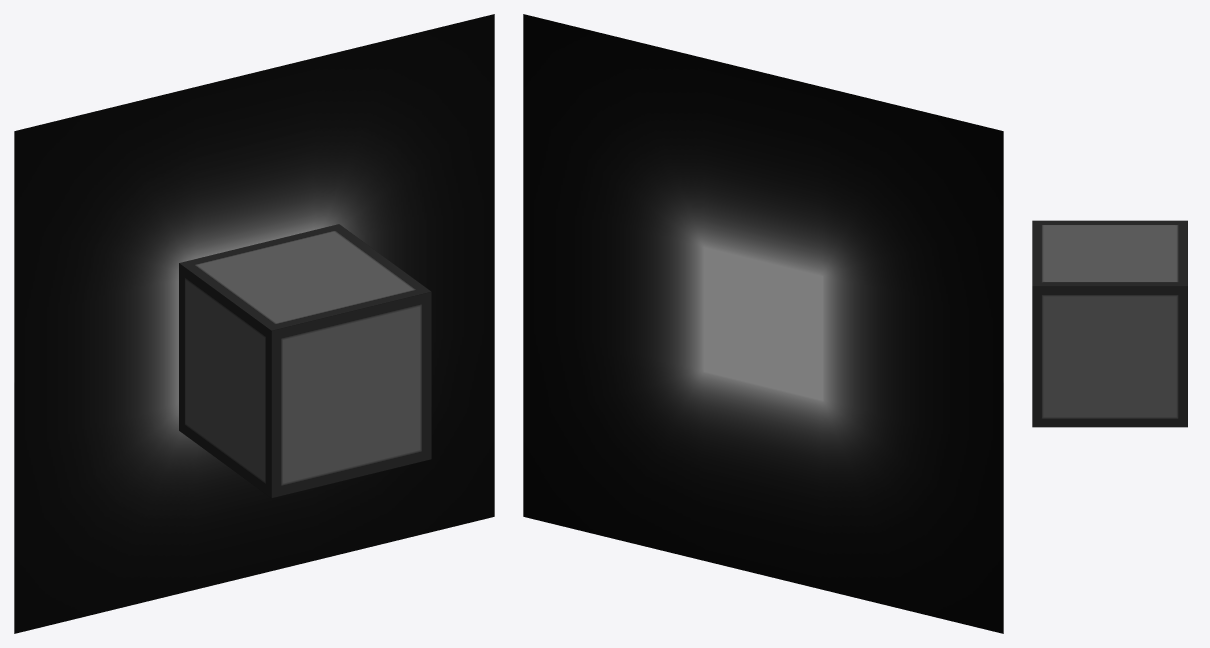
Rendered from neighbour.dae.
3 views of the same model, side by side, from view 1: azimuth 30°, elevation 25°; view 2: azimuth 150°, elevation 25°; view 3: azimuth 270°, elevation 25° (orthographic). The views are drawn at different scales.
Parts seen in each view (by area): view 1: cell1_2; view 2: cell1_2; view 3: cell1_2.
Part boxes in pixels (bbox=[...]): cell1_2: bbox=[14, 14, 494, 633]; cell1_2: bbox=[523, 14, 1003, 633]; cell1_2: bbox=[1032, 220, 1187, 427].
Size of the model in its own units: 3 by 3 by 1.05.
